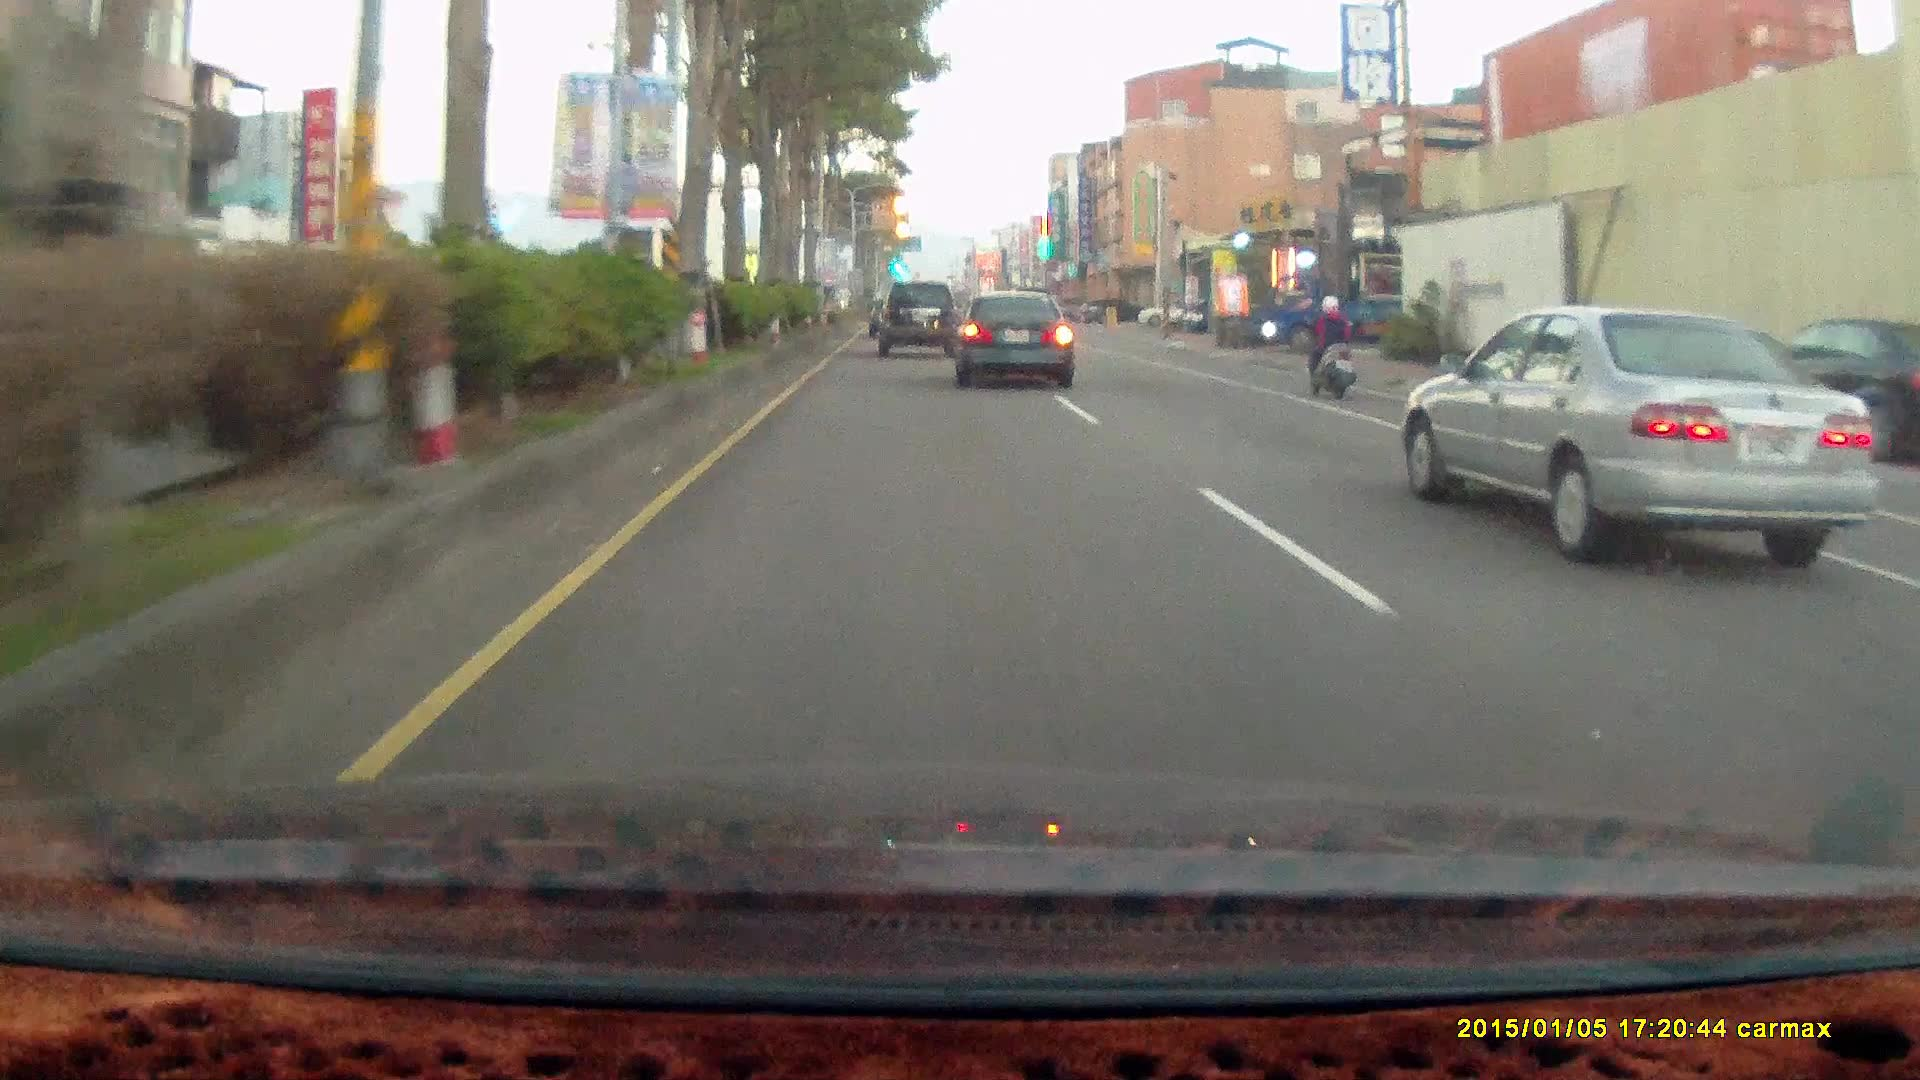rider: (1294, 284, 1368, 410), (1299, 292, 1356, 401)
vehicle: (1402, 305, 1878, 571), (1399, 301, 1876, 559), (1258, 270, 1441, 353), (952, 288, 1075, 389), (958, 293, 1082, 390), (1262, 268, 1411, 346), (877, 281, 959, 356), (878, 283, 961, 354), (1136, 296, 1198, 326), (1082, 296, 1145, 321)
